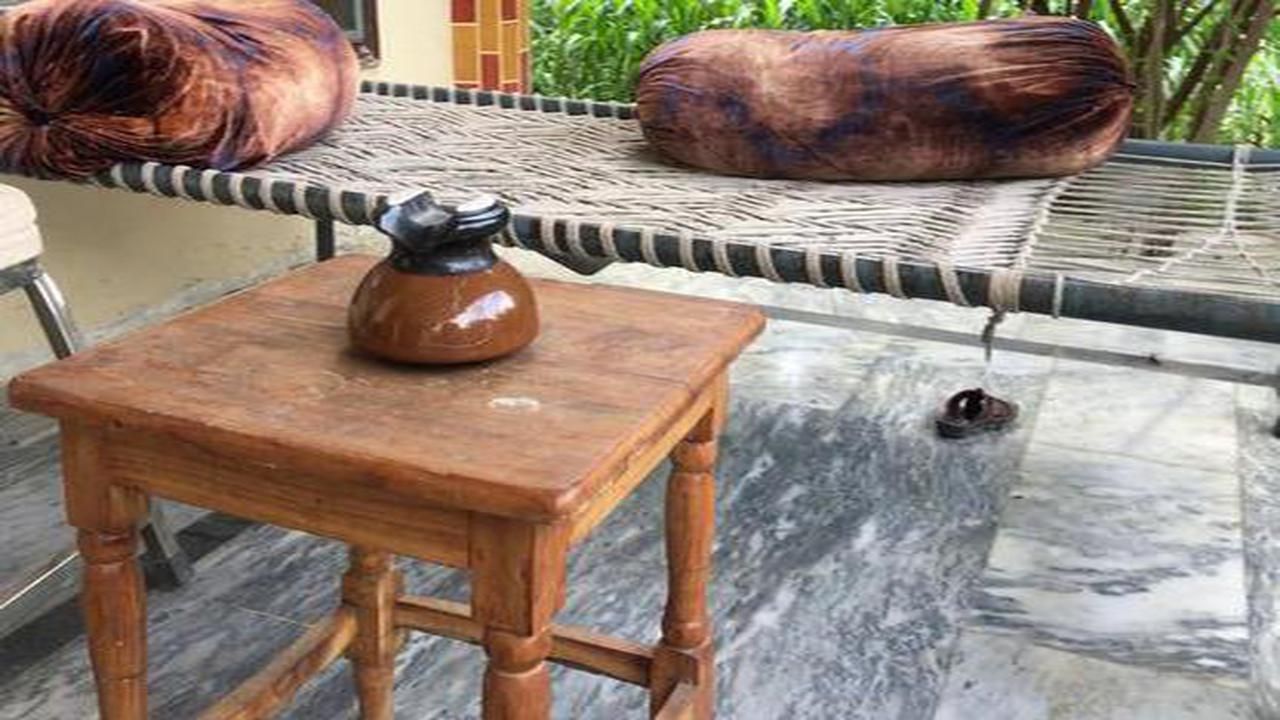insulator_pin: (333, 177, 564, 378)
